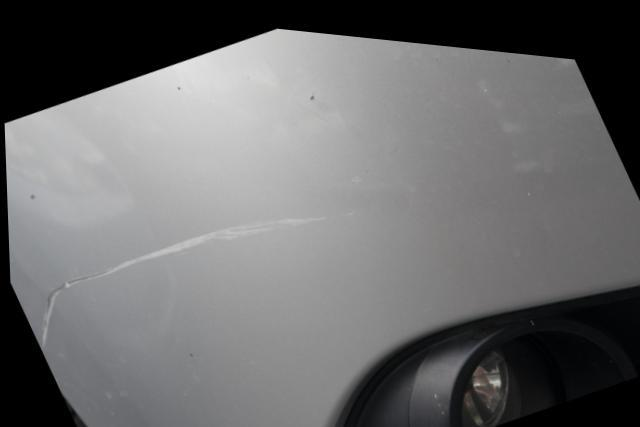scratch: (34, 207, 331, 354)
